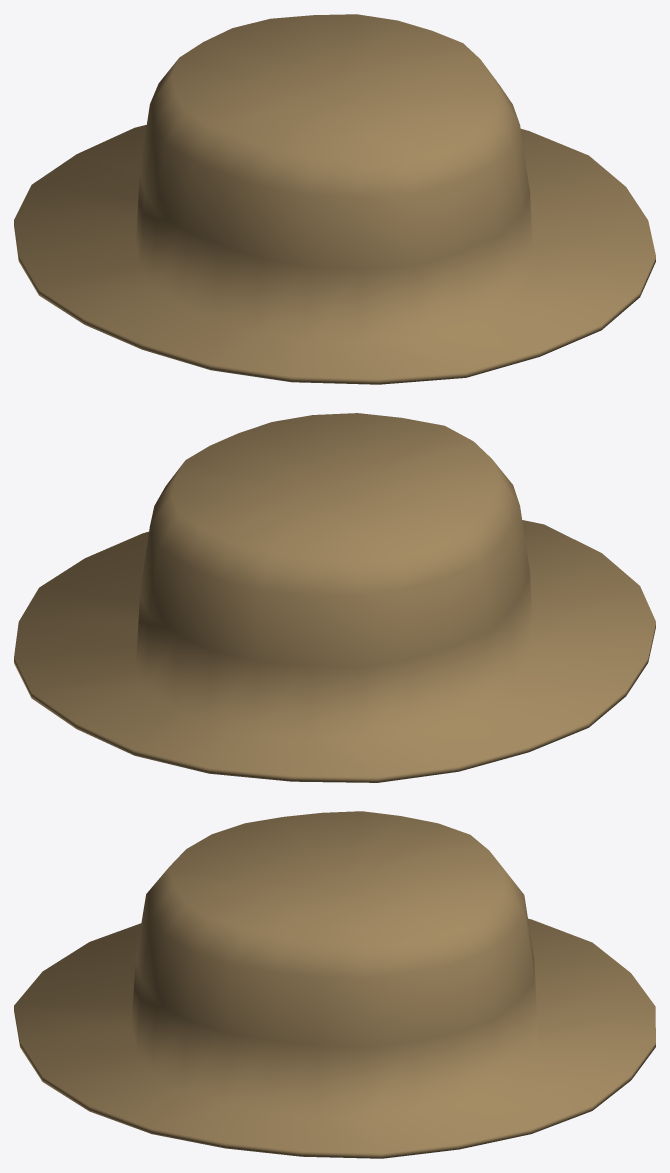
The model's file is accessory_hat_male.glb.
The picture shows the model from 3 angles, top to bottom: view 1: azimuth 30°, elevation 25°; view 2: azimuth 150°, elevation 25°; view 3: azimuth 270°, elevation 25°; orthographic projection. The views are drawn at different scales.
Visible parts, largest first — view 1: accessory_hat; view 2: accessory_hat; view 3: accessory_hat.
Boxes of the visible parts, <box> form: accessory_hat: <box>14,14,655,384</box>; accessory_hat: <box>14,413,655,782</box>; accessory_hat: <box>14,811,655,1158</box>.
Bounding box in the file's own units: 0.387 × 0.119 × 0.4064.
